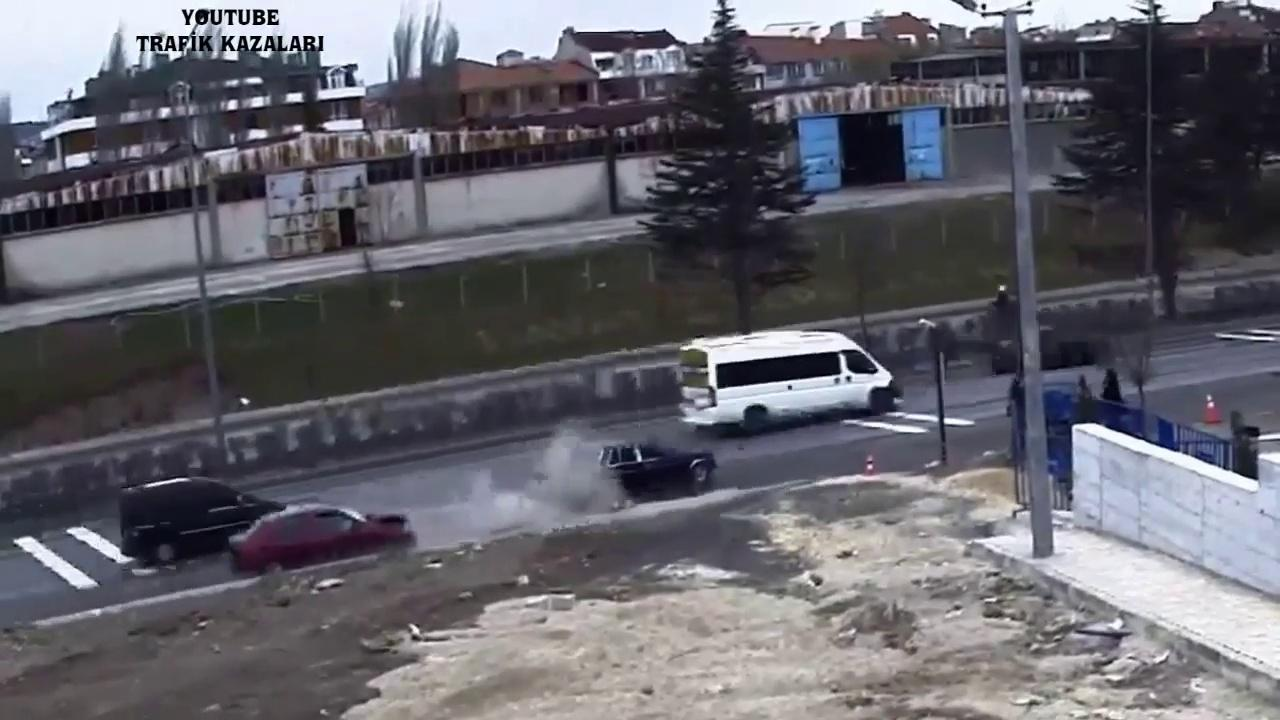car-accident: (469, 432, 723, 538)
